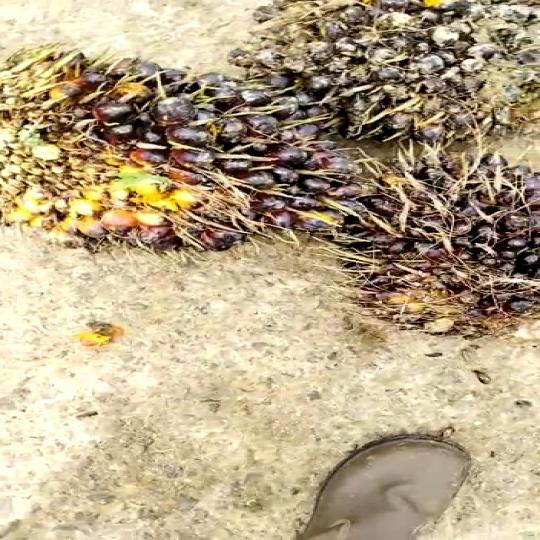mentah: (0, 33, 336, 286), (216, 0, 540, 145), (320, 143, 540, 337)
